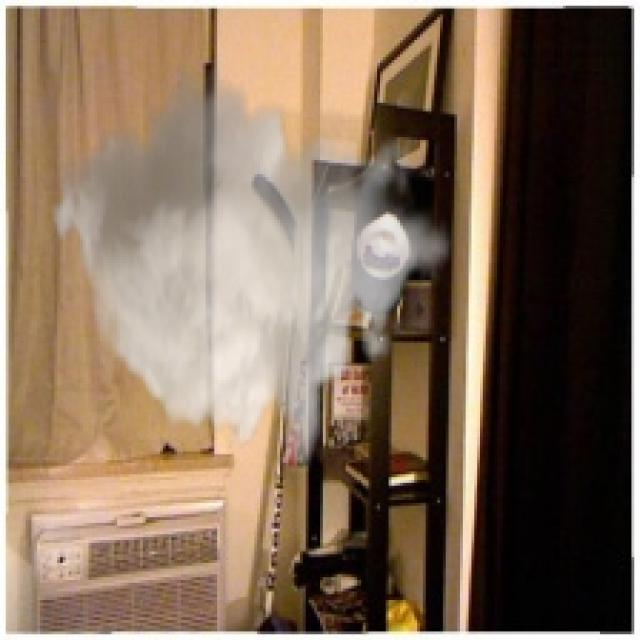smoke: (49, 60, 454, 477)
